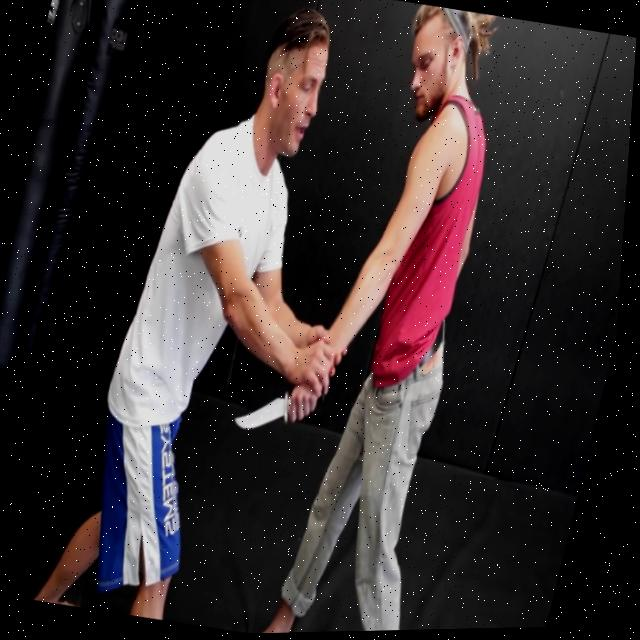knife: (232, 382, 299, 448)
